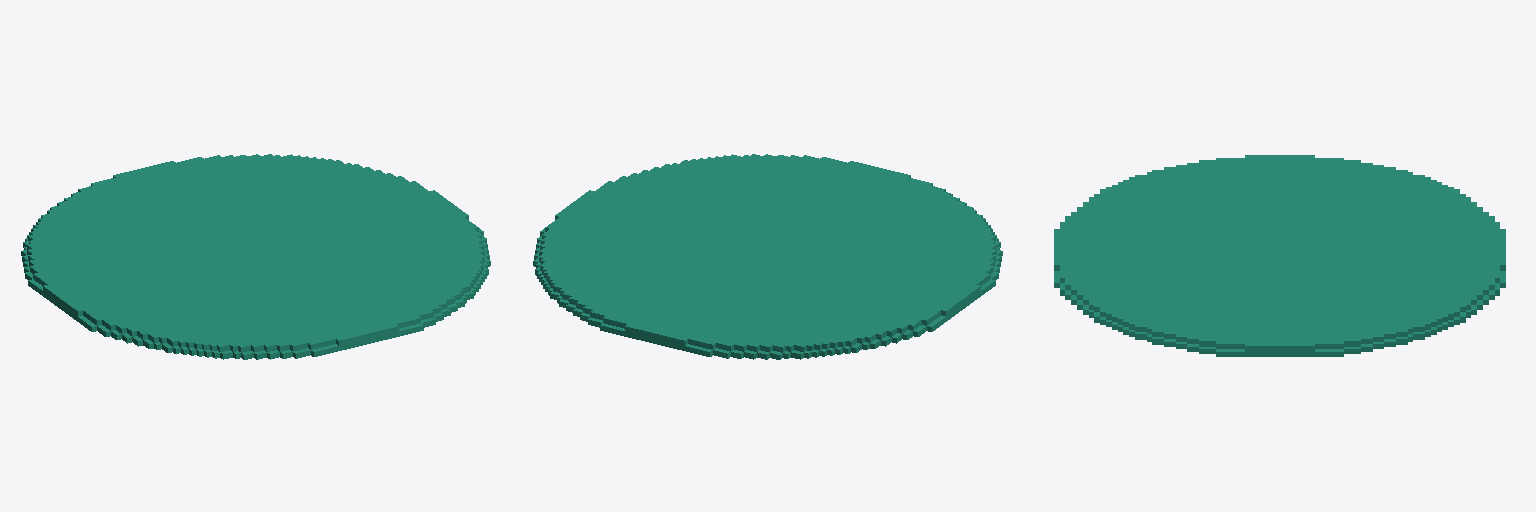
The picture shows the model from 3 angles: view 1: azimuth 30°, elevation 25°; view 2: azimuth 150°, elevation 25°; view 3: azimuth 270°, elevation 25°; orthographic projection.
Parts seen in each view (by area): view 1: Model; view 2: Model; view 3: Model.
Boxes of the visible parts, x1=… form: Model: x1=21, y1=154, x2=490, y2=359; Model: x1=533, y1=154, x2=1002, y2=359; Model: x1=1054, y1=155, x2=1505, y2=356.
Bounding box in the file's own units: 32 × 0.8205 × 32.
Materials: 1 (1 with a texture image).